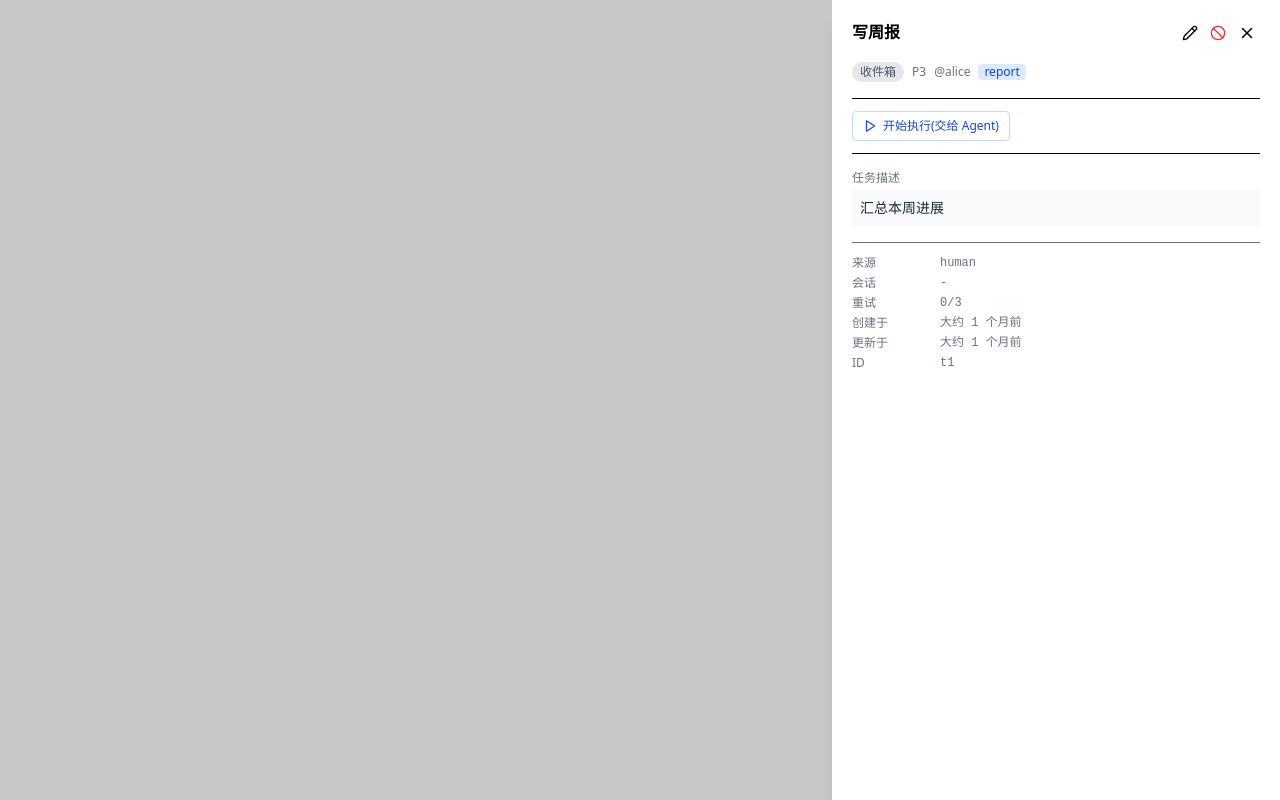
it: TaskDetailDrawer 编辑 › 保存成功后退出编辑态
Click the button named "编辑任务": (1190, 33) [1178,21,1202,45]
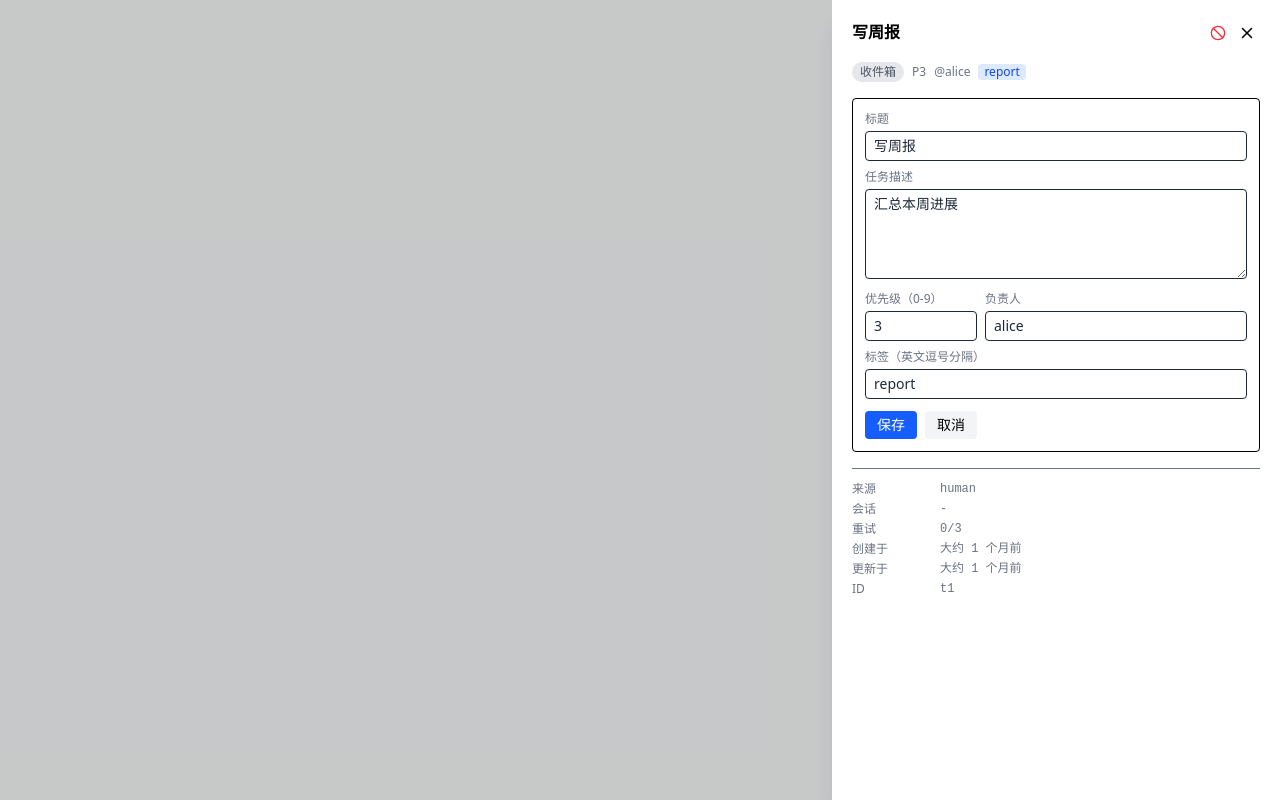
Click the button "保存": (891, 425) [865,411,917,439]
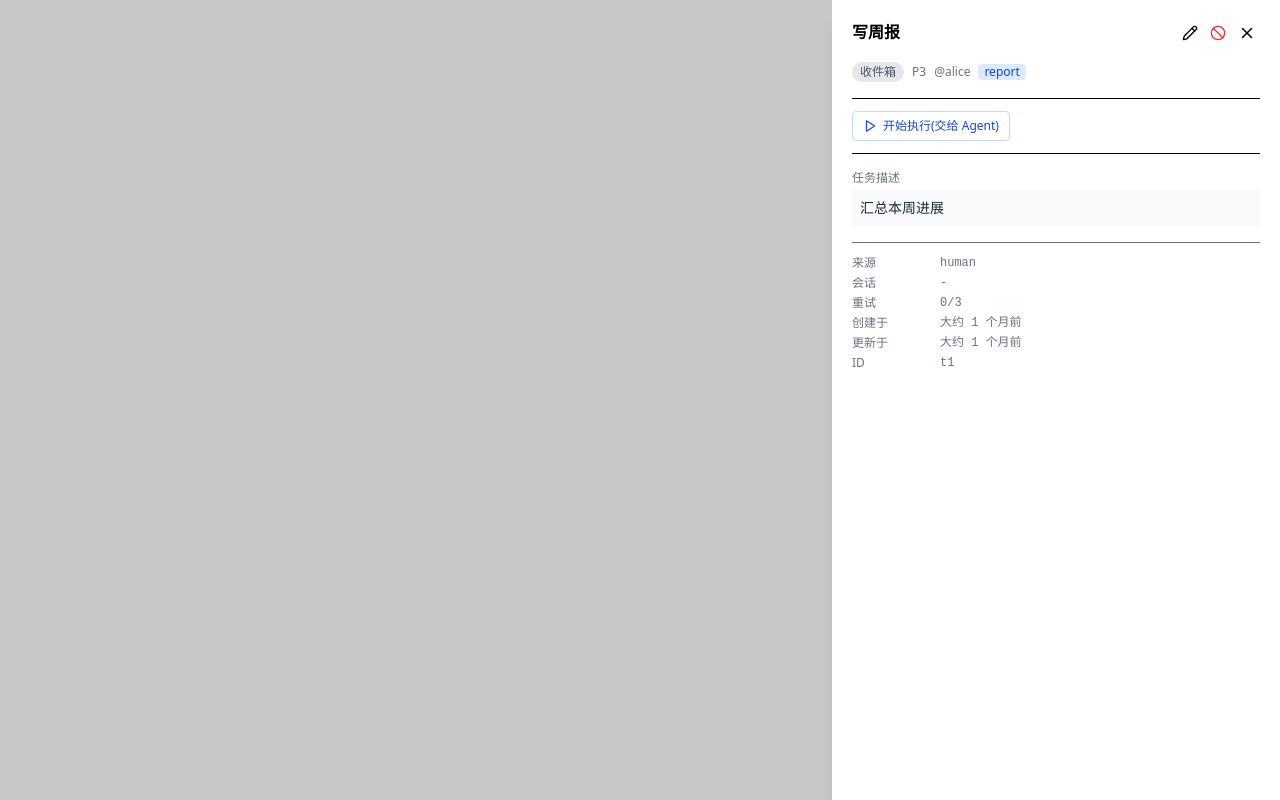
Expected: the label labelled "标题" is gone
